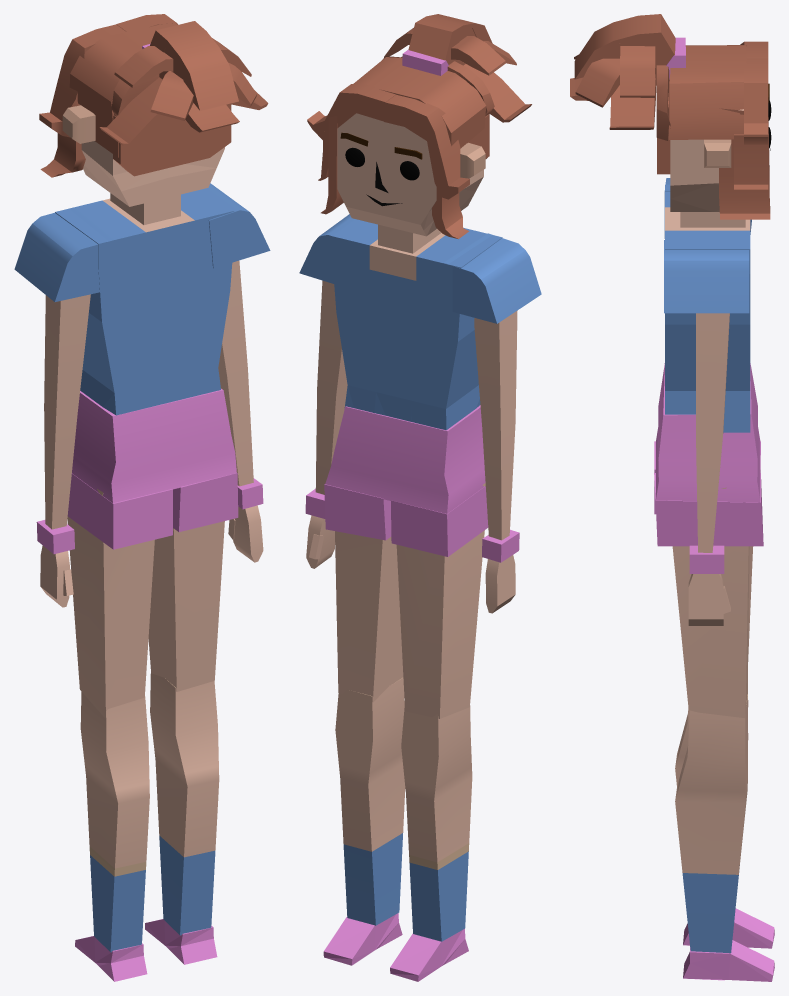
Rendered from armsdowntallgirl.fbx.
The picture shows the model from 3 angles, left to right: view 1: azimuth 30°, elevation 25°; view 2: azimuth 150°, elevation 25°; view 3: azimuth 270°, elevation 25°; orthographic projection. The views are drawn at different scales.
Parts seen in each view (by area): view 1: pCube120, pCube144, pCube112, pCube123, pCube130, pCube114, pCube110, pCube132, pCube126, pCube82, pCube98, pCube92 (+18 smaller); view 2: pCube120, pCube144, pCube112, pCube123, pCube114, pCube130, pCube110, pCube82, pCube83, pCube126, pCube132, pCube88 (+15 smaller); view 3: pCube112, pCube110, pCube120, pCube130, pCube83, pCube126, pCube137, pCube131, pCube98, pCube82, pCube121, pCube87 (+12 smaller).
Part boxes in pixels (x1,y1,x2,y2): pCube120: [55, 189, 234, 415]; pCube144: [14, 207, 114, 607]; pCube112: [150, 673, 219, 935]; pCube123: [80, 691, 149, 952]; pCube130: [72, 388, 236, 503]; pCube114: [67, 489, 154, 718]; pCube110: [148, 521, 224, 691]; pCube132: [67, 473, 172, 549]; pCube126: [218, 260, 253, 486]; pCube82: [81, 113, 224, 206]; pCube98: [150, 21, 238, 110]; pCube92: [113, 104, 231, 176]; pCube120: [332, 219, 502, 430]; pCube144: [443, 233, 541, 613]; pCube112: [335, 677, 405, 925]; pCube123: [401, 705, 472, 941]; pCube114: [396, 483, 485, 718]; pCube130: [325, 405, 485, 513]; pCube110: [335, 531, 403, 702]; pCube82: [337, 113, 483, 236]; pCube83: [353, 57, 486, 148]; pCube126: [315, 280, 347, 494]; pCube132: [391, 486, 488, 556]; pCube88: [384, 94, 469, 199]; pCube112: [675, 694, 748, 953]; pCube110: [672, 487, 749, 718]; pCube120: [665, 184, 750, 432]; pCube130: [655, 363, 760, 502]; pCube83: [668, 45, 746, 139]; pCube126: [696, 313, 729, 552]; pCube137: [664, 240, 749, 313]; pCube131: [654, 473, 763, 546]; pCube98: [574, 14, 675, 79]; pCube82: [670, 109, 743, 211]; pCube121: [683, 940, 774, 981]; pCube87: [719, 108, 770, 219].
Size of the model in its own units: 2.91 by 12.04 by 2.4.
